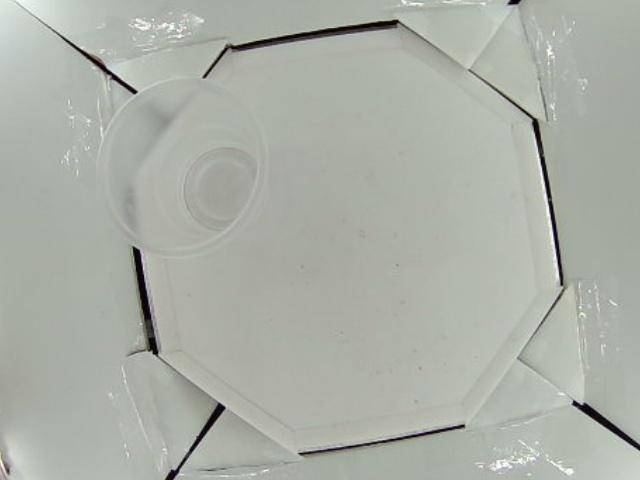Cup: (97, 75, 268, 256)
